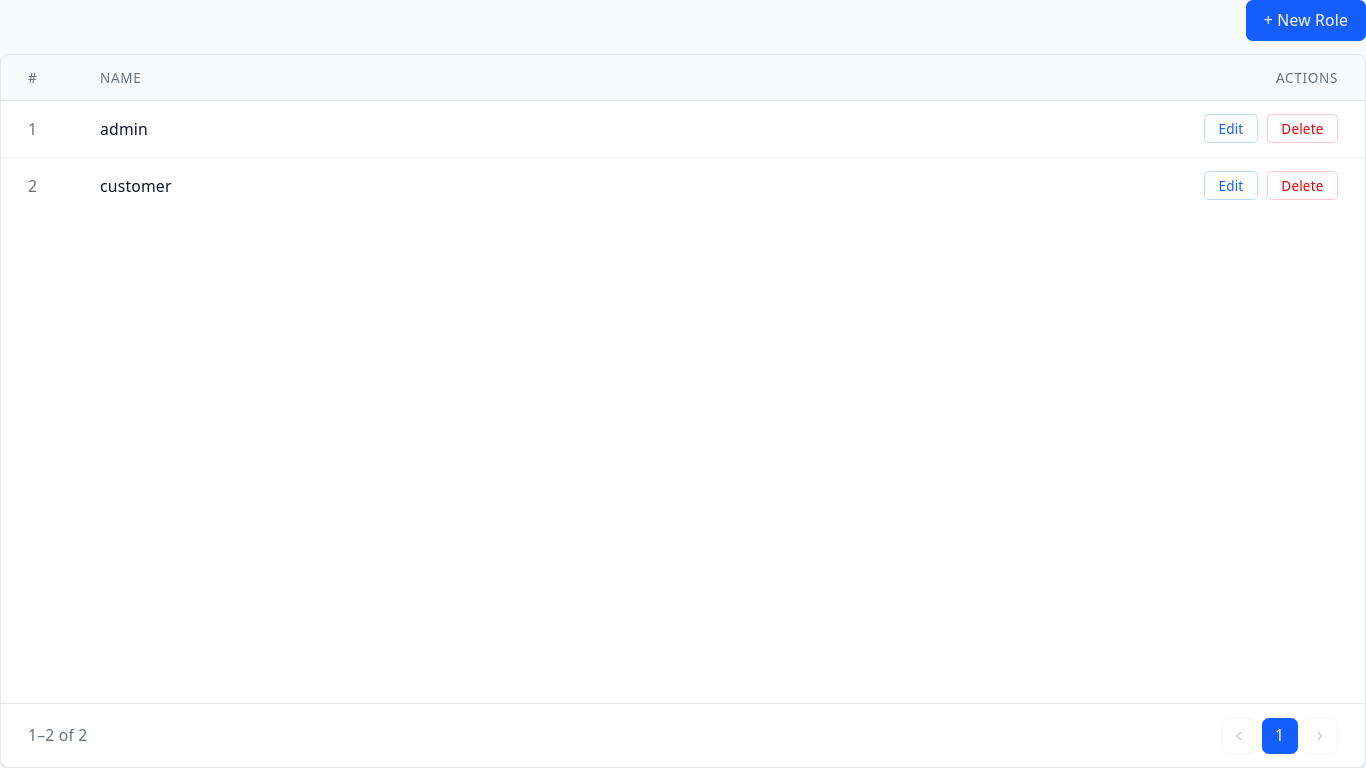
Test: RoleList › opens "Edit Role" modal with pre-filled name when Edit is clicked
The width and height of the screenshot is (1366, 768).
What coordinates should you click on to do the following:
click the button "Edit" in the row of "admin"
I would click on:
 (1231, 129)
Its box is 1204,114 -> 1258,144.
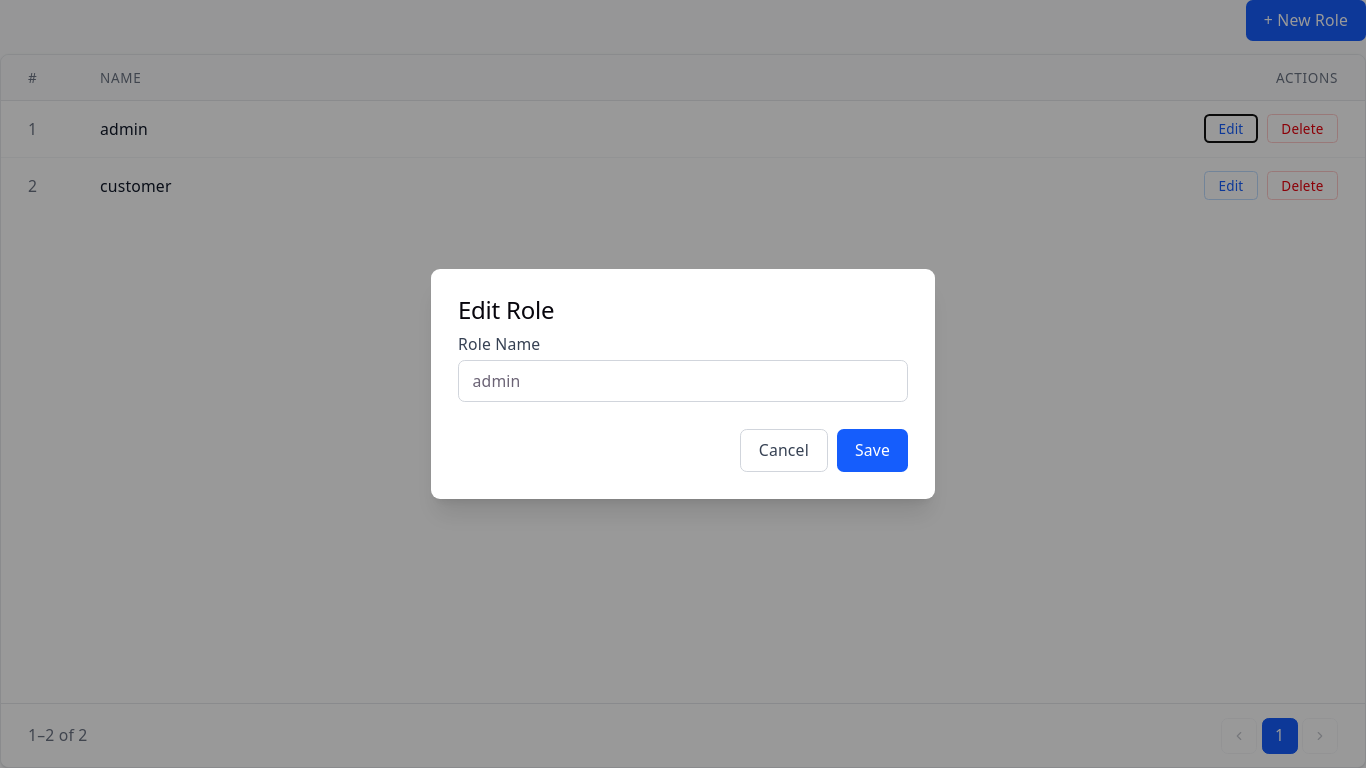
Result: the heading "Edit Role" is shown at 458,293 -> 554,326
Result: the field showing "admin" is shown at 458,360 -> 908,402
